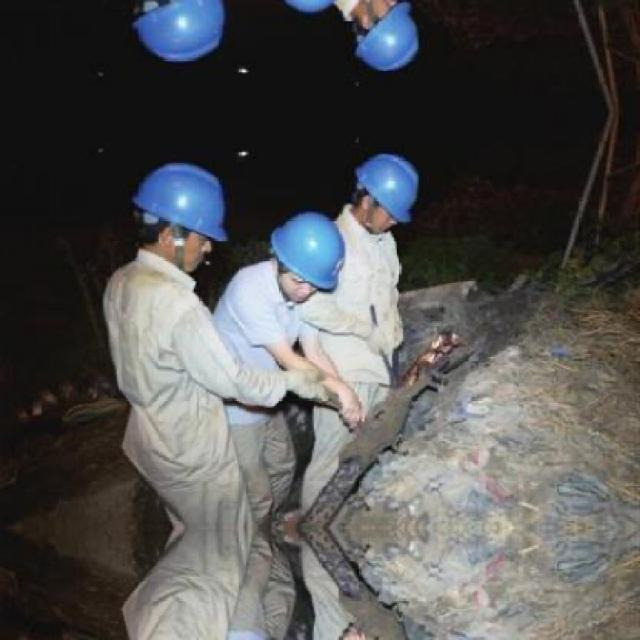helmet: (131, 156, 232, 270), (257, 209, 341, 303), (351, 148, 432, 235), (130, 0, 232, 68), (351, 0, 434, 75)
